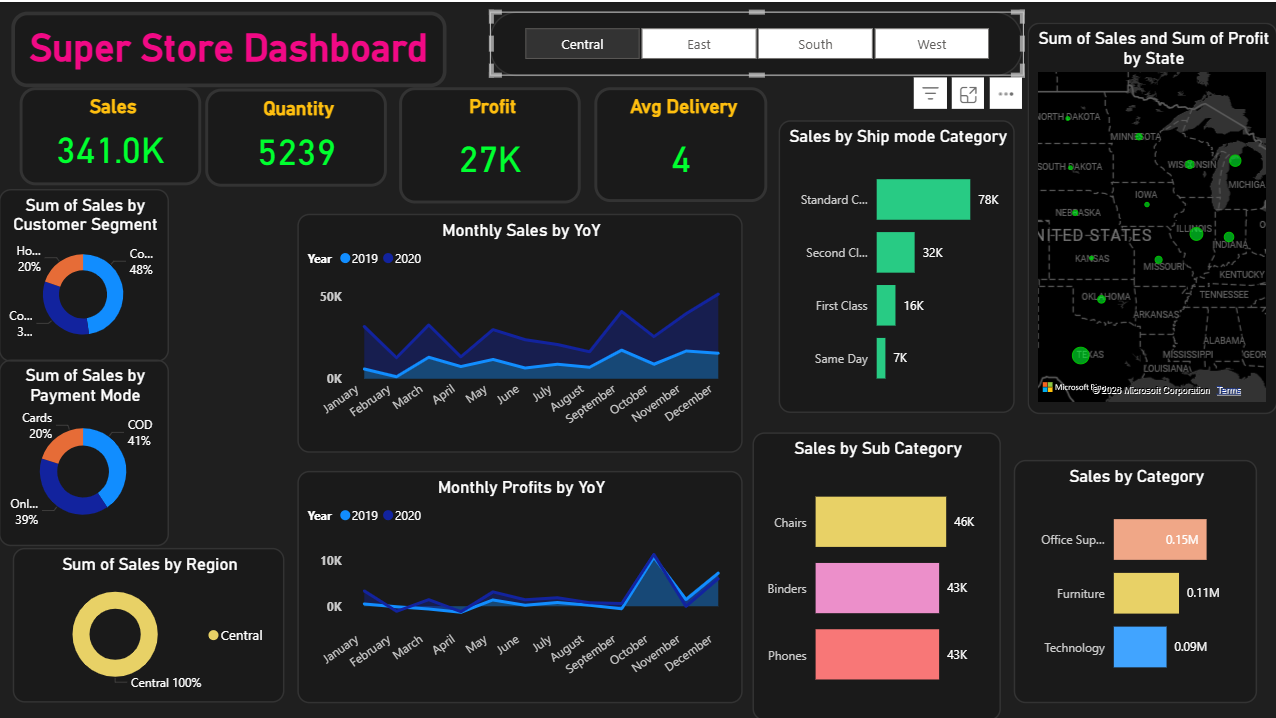

Layout of this report page (visuals, bound fields, positions):
{"tool":"powerbi","page":{"name":"Page 1","canvas":[1280,720],"ordinal":0},"visuals":[{"type":"clusteredBarChart","title":"Sales by Category","fields":{"Category":["SuperStore_Sales_Dataset.Category"],"Y":["Sum(SuperStore_Sales_Dataset.Sales)"]},"box":[1016.7,458.3,243.3,243.3],"z":0},{"type":"clusteredBarChart","title":"Sales by Sub Category","fields":{"Category":["SuperStore_Sales_Dataset.Sub-Category"],"Y":["Sum(SuperStore_Sales_Dataset.Sales)"]},"box":[754.3,431.4,248.6,288.6],"z":1000},{"type":"clusteredBarChart","title":"Sales by Ship mode Category","fields":{"Category":["SuperStore_Sales_Dataset.Ship Mode"],"Y":["Sum(SuperStore_Sales_Dataset.Sales)"]},"box":[780,118.3,236.7,293.3],"z":2000},{"type":"stackedAreaChart","title":"Monthly Sales by YoY","fields":{"Y":["Sum(SuperStore_Sales_Dataset.Sales)"],"Category":["SuperStore_Sales_Dataset.Order Date.Variation.Date Hierarchy.Month","SuperStore_Sales_Dataset.Order Date.Variation.Date Hierarchy.Day"],"Series":["SuperStore_Sales_Dataset.Order Date.Variation.Date Hierarchy.Year"]},"box":[298.3,211.7,475,240],"z":3000},{"type":"stackedAreaChart","title":"Monthly Profits by YoY","fields":{"Category":["SuperStore_Sales_Dataset.Order Date.Variation.Date Hierarchy.Month","SuperStore_Sales_Dataset.Order Date.Variation.Date Hierarchy.Day"],"Series":["SuperStore_Sales_Dataset.Order Date.Variation.Date Hierarchy.Year"],"Y":["Sum(SuperStore_Sales_Dataset.Profit)"]},"box":[298.3,458.3,446.7,233.3],"z":4000},{"type":"map","title":"Sum of Sales and Sum of Profit by State","fields":{"Category":["SuperStore_Sales_Dataset.State"],"Size":["Sum(SuperStore_Sales_Dataset.Sales)"]},"box":[1030,20,250,391.7],"z":5000},{"type":"donutChart","title":"Sum of Sales by Customer Segment","fields":{"Category":["SuperStore_Sales_Dataset.Segment"],"Y":["Sum(SuperStore_Sales_Dataset.Sales)"]},"box":[0,186.7,170,173.3],"z":6000},{"type":"donutChart","title":"Sum of Sales by Payment Mode","fields":{"Category":["SuperStore_Sales_Dataset.Payment Mode"],"Y":["Sum(SuperStore_Sales_Dataset.Sales)"]},"box":[0,358.3,170,186.7],"z":7000},{"type":"slicer","fields":{"Values":["SuperStore_Sales_Dataset.Region"]},"box":[491.7,10,533.3,65],"z":8000},{"type":"textbox","box":[12.9,10,435.7,75.7],"z":9000},{"type":"card","title":"Sales","fields":{"Values":["Sum(SuperStore_Sales_Dataset.Sales)"]},"box":[20,85,181.7,98.3],"z":10000},{"type":"card","title":"Quantity","fields":{"Values":["Sum(SuperStore_Sales_Dataset.Quantity)"]},"box":[206.7,86.7,181.7,98.3],"z":11000},{"type":"card","title":"Profit","fields":{"Values":["Sum(SuperStore_Sales_Dataset.Profit)"]},"box":[400,85,181.7,116.7],"z":12000},{"type":"card","title":"Avg Delivery","fields":{"Values":["Avg(SuperStore_Sales_Dataset.AverageDelivery)"]},"box":[596.7,85,173.3,115],"z":13000},{"type":"donutChart","fields":{"Category":["SuperStore_Sales_Dataset.Region"],"Y":["Sum(SuperStore_Sales_Dataset.Sales)"]},"box":[13.3,546.7,271.7,155],"z":14000}]}

Visuals, with their boxes in screenshot pixels (x1, y1, x2, y2), scaled from the page's 1280x720 canvas onto the 1276x718 screenshot:
"Sales by Category" clusteredBarChart: bbox=[1014, 457, 1256, 700]
"Sales by Sub Category" clusteredBarChart: bbox=[752, 430, 1000, 717]
"Sales by Ship mode Category" clusteredBarChart: bbox=[778, 118, 1014, 410]
"Monthly Sales by YoY" stackedAreaChart: bbox=[297, 211, 771, 450]
"Monthly Profits by YoY" stackedAreaChart: bbox=[297, 457, 743, 690]
"Sum of Sales and Sum of Profit by State" map: bbox=[1027, 20, 1275, 411]
"Sum of Sales by Customer Segment" donutChart: bbox=[0, 186, 169, 359]
"Sum of Sales by Payment Mode" donutChart: bbox=[0, 357, 169, 543]
slicer - SuperStore_Sales_Dataset.Region: bbox=[490, 10, 1022, 75]
textbox: bbox=[13, 10, 447, 85]
"Sales" card: bbox=[20, 85, 201, 183]
"Quantity" card: bbox=[206, 86, 387, 184]
"Profit" card: bbox=[399, 85, 580, 201]
"Avg Delivery" card: bbox=[595, 85, 768, 199]
donutChart - SuperStore_Sales_Dataset.Region x Sum(SuperStore_Sales_Dataset.Sales): bbox=[13, 545, 284, 700]
